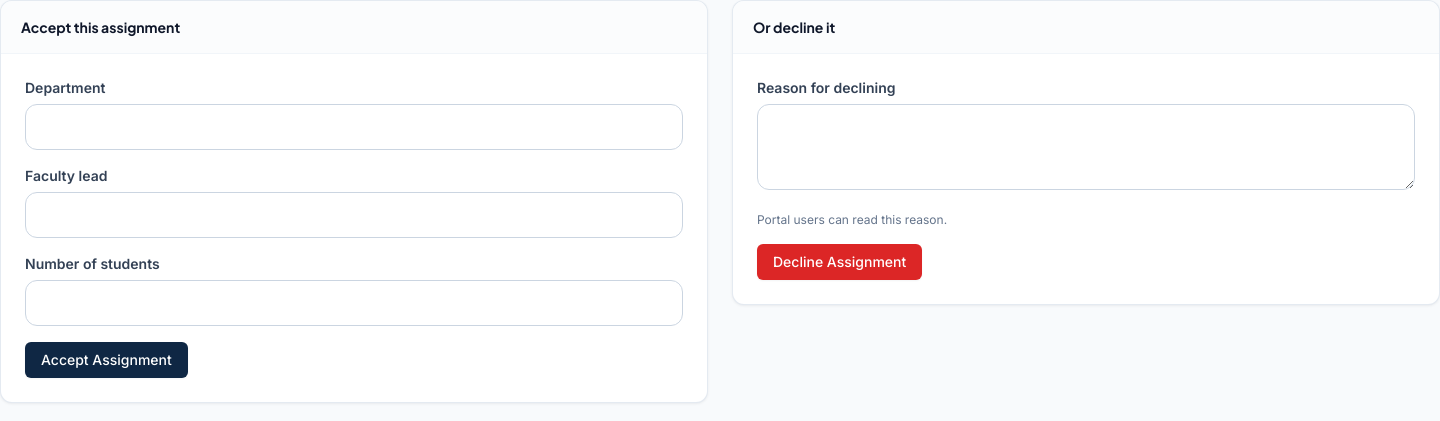
Test case: UniversityActions › needs a reason to decline
Click the button "Decline Assignment".
click(840, 262)  # box [757,244,922,280]
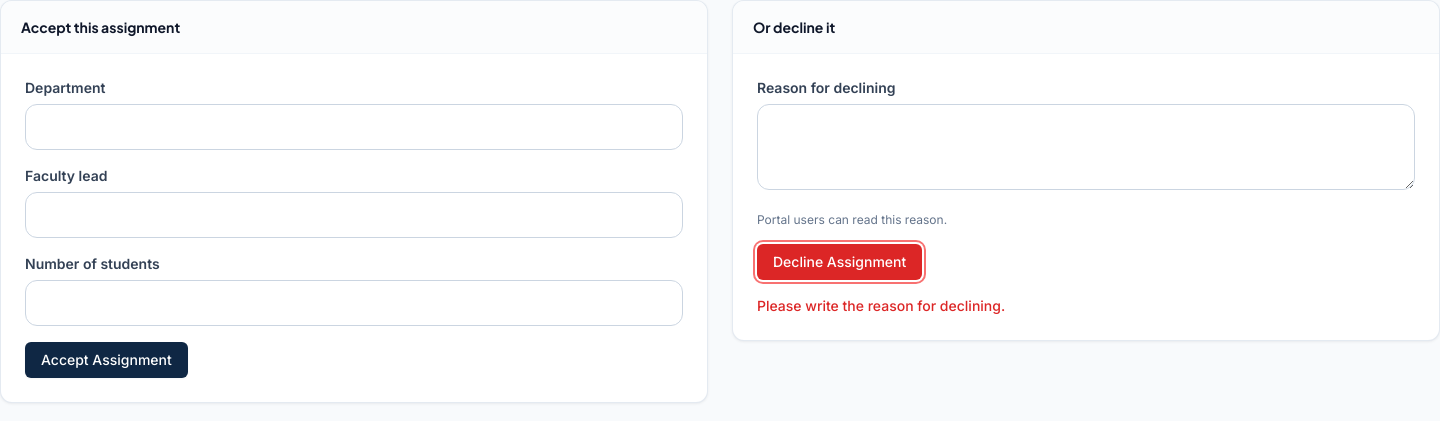
expect the message shows "reason": met, box [757,297,1005,314]
